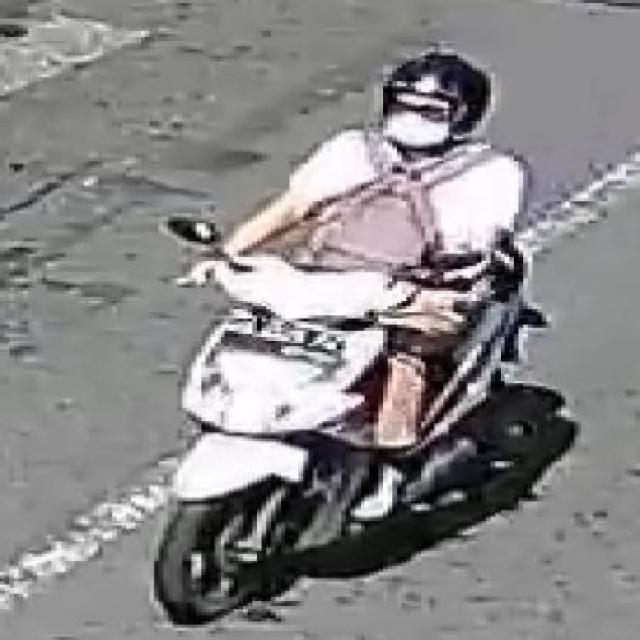helmet: (375, 39, 491, 175)
motorcycle: (153, 21, 556, 640)
